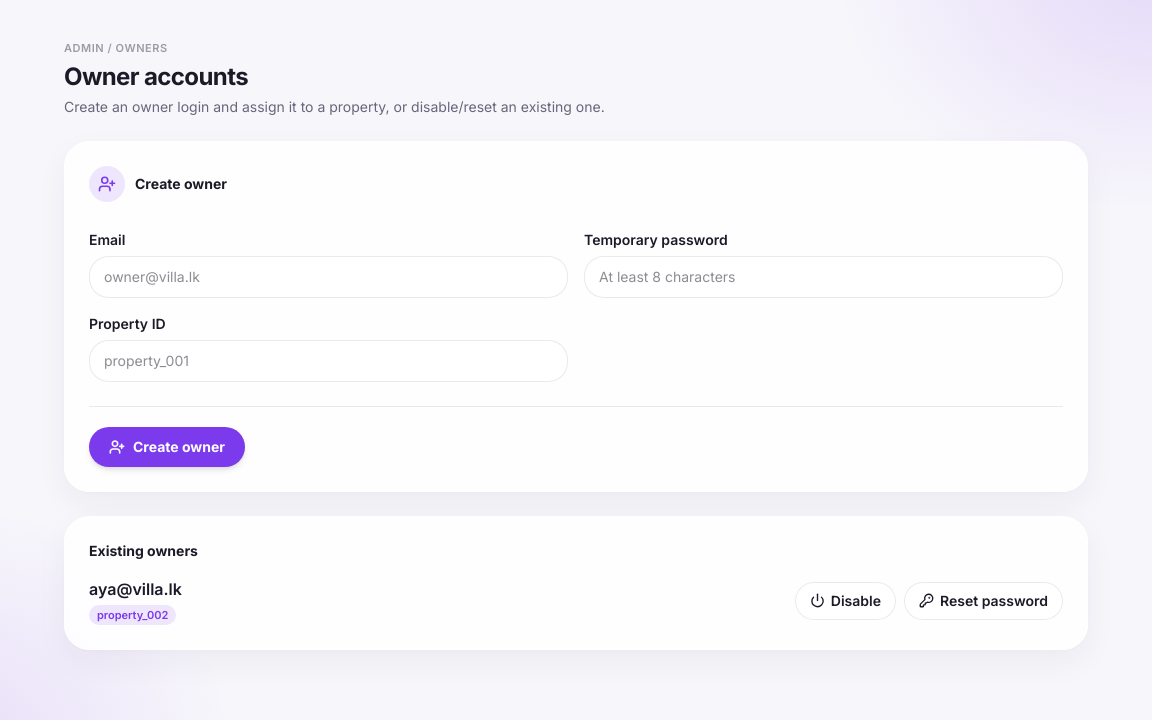
AdminOwners › surfaces a reset error without showing a reset link
Click the button "Reset password" at coordinates (984, 601), box top-left (904, 582), bottom-right (1063, 620)
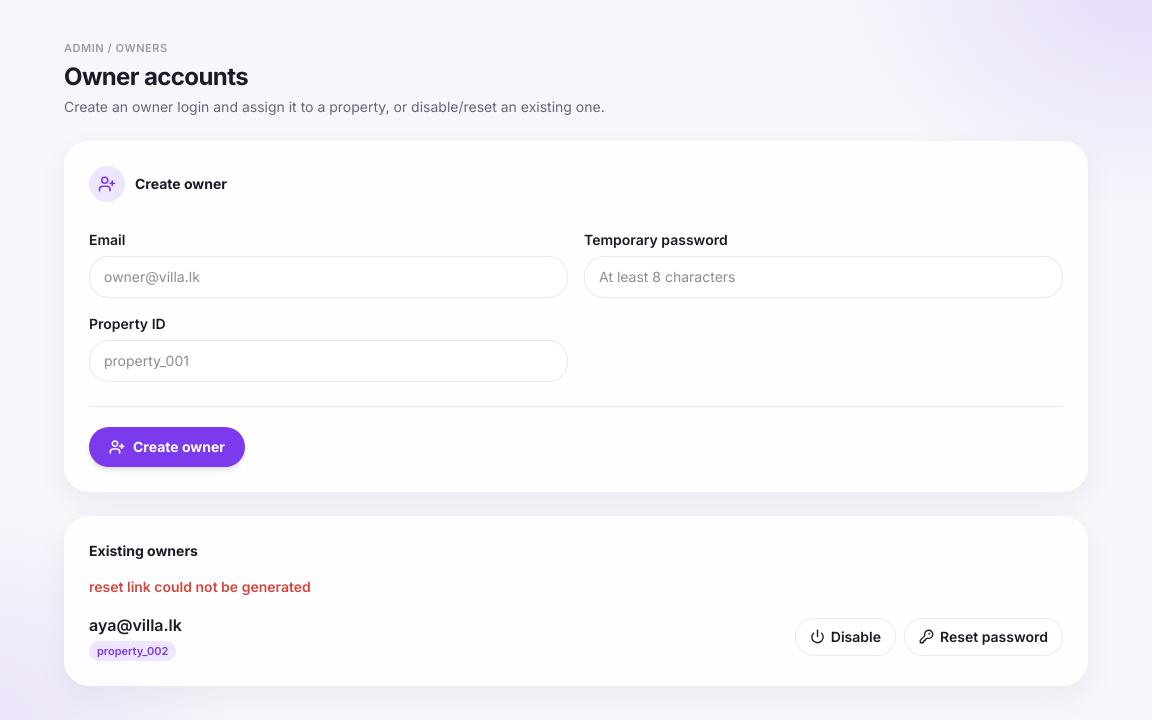
Expected: the message reads "reset link could not be generated", top-left (89, 578), bottom-right (311, 594)
